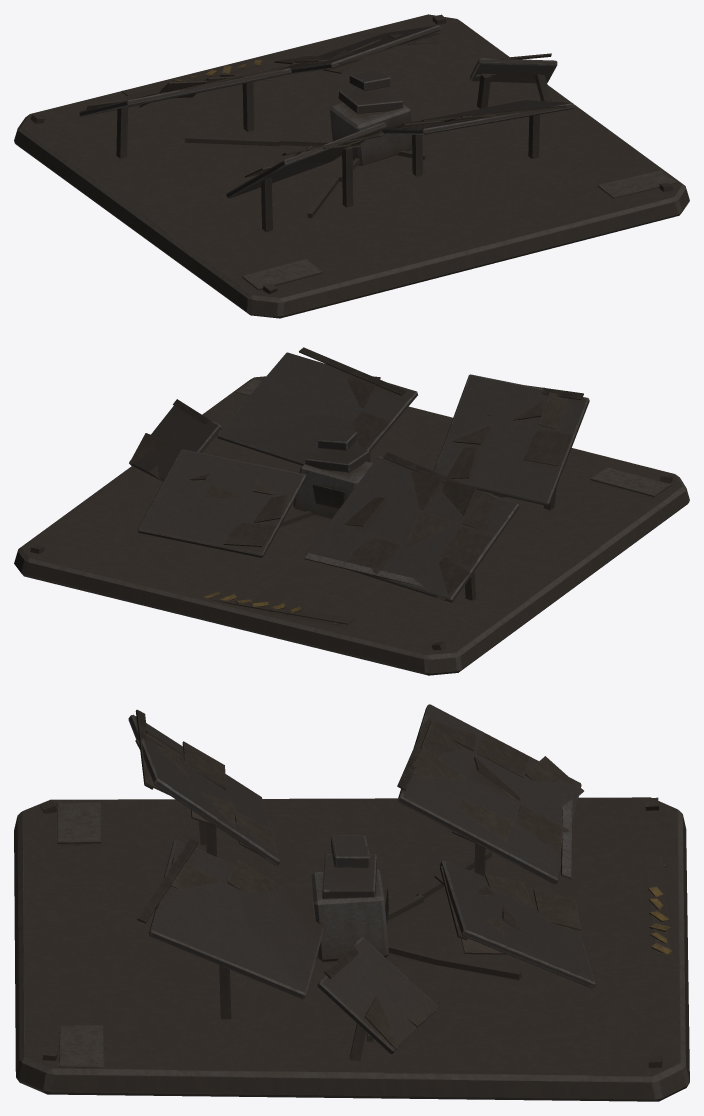
Rendered from chs_solar_wreck.fbx.
3 renders of one model, top to bottom at view 1: azimuth 30°, elevation 25°; view 2: azimuth 150°, elevation 25°; view 3: azimuth 270°, elevation 25°, orthographic. The views are drawn at different scales.
Parts seen in each view (by area): view 1: base_bar; view 2: base_bar; view 3: base_bar.
Part boxes in pixels (x1,y1,x2,y2): base_bar: [14, 14, 689, 318]; base_bar: [14, 347, 689, 675]; base_bar: [14, 704, 689, 1101].
Bounding box in the file's own units: 1569 × 591 × 1564.
2 materials, 2 textured.
